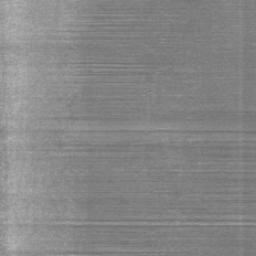Waist folding: (0, 0, 256, 256), (222, 41, 256, 51)
